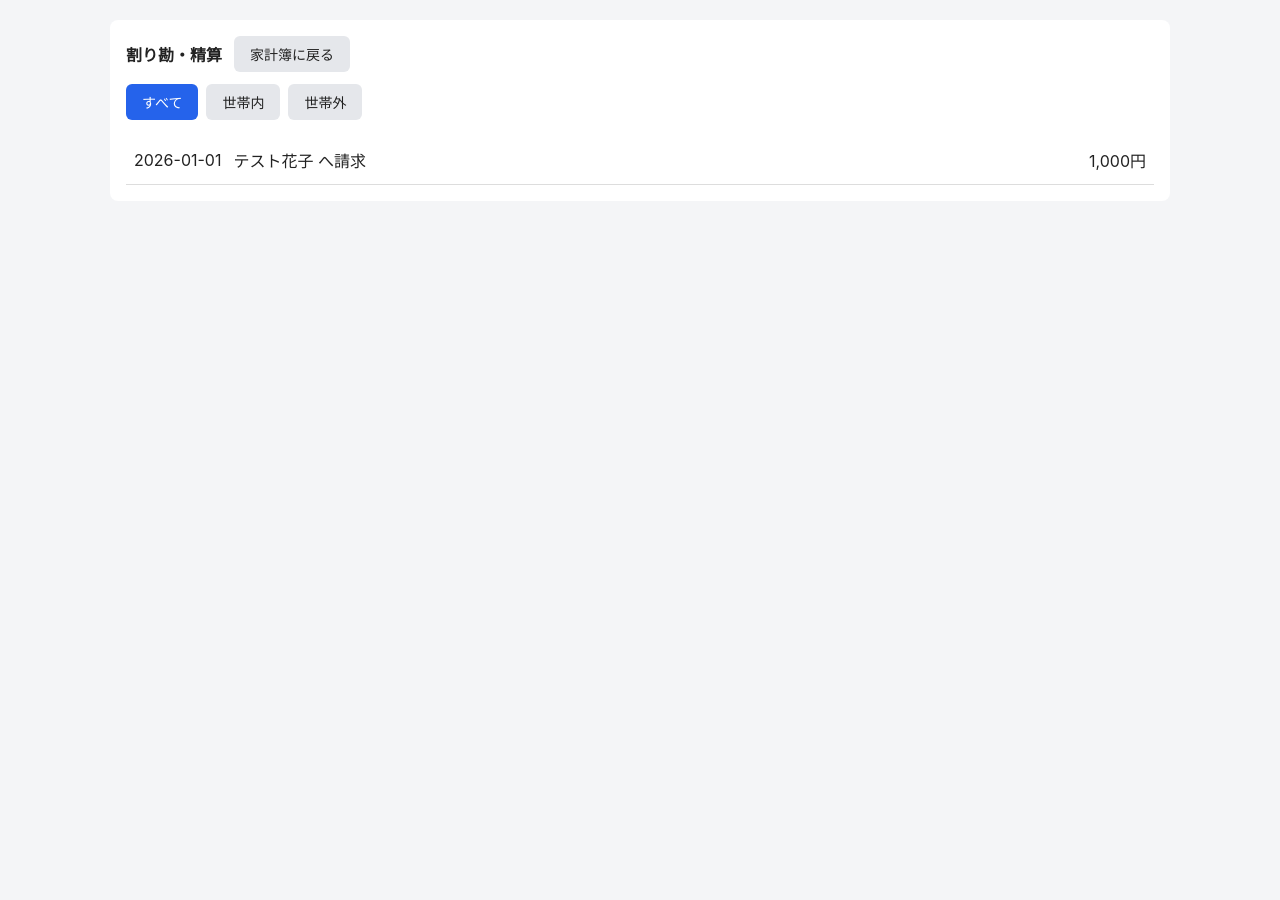
Test: WarikanPage(改訂フロー) › 未精算の行は確認ダイアログを経て削除できる
Click the button with aria-label "共同購入" at point(178, 160), box [126,136,1154,185]
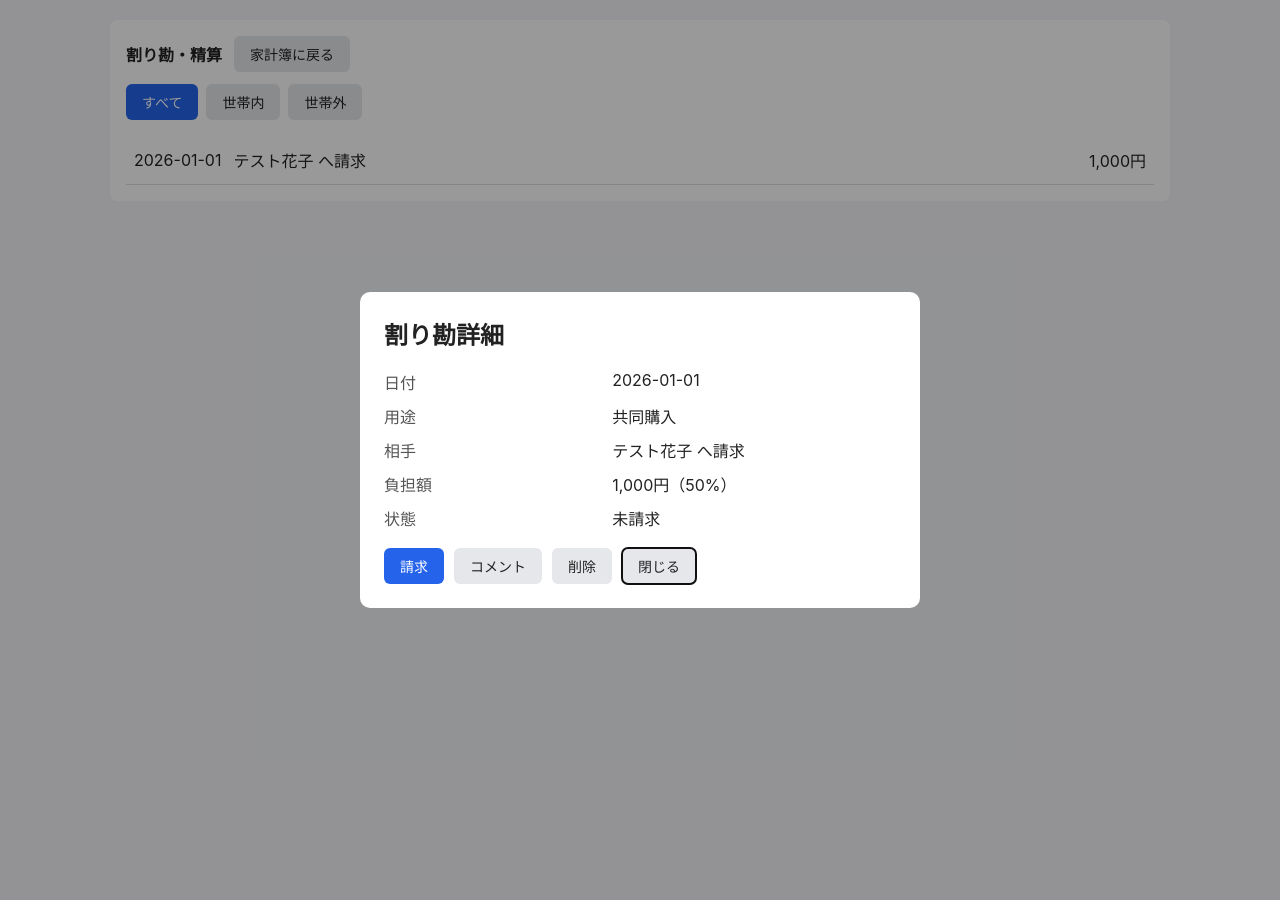
Click the button "削除" at point(582, 566), box [552,548,612,584]
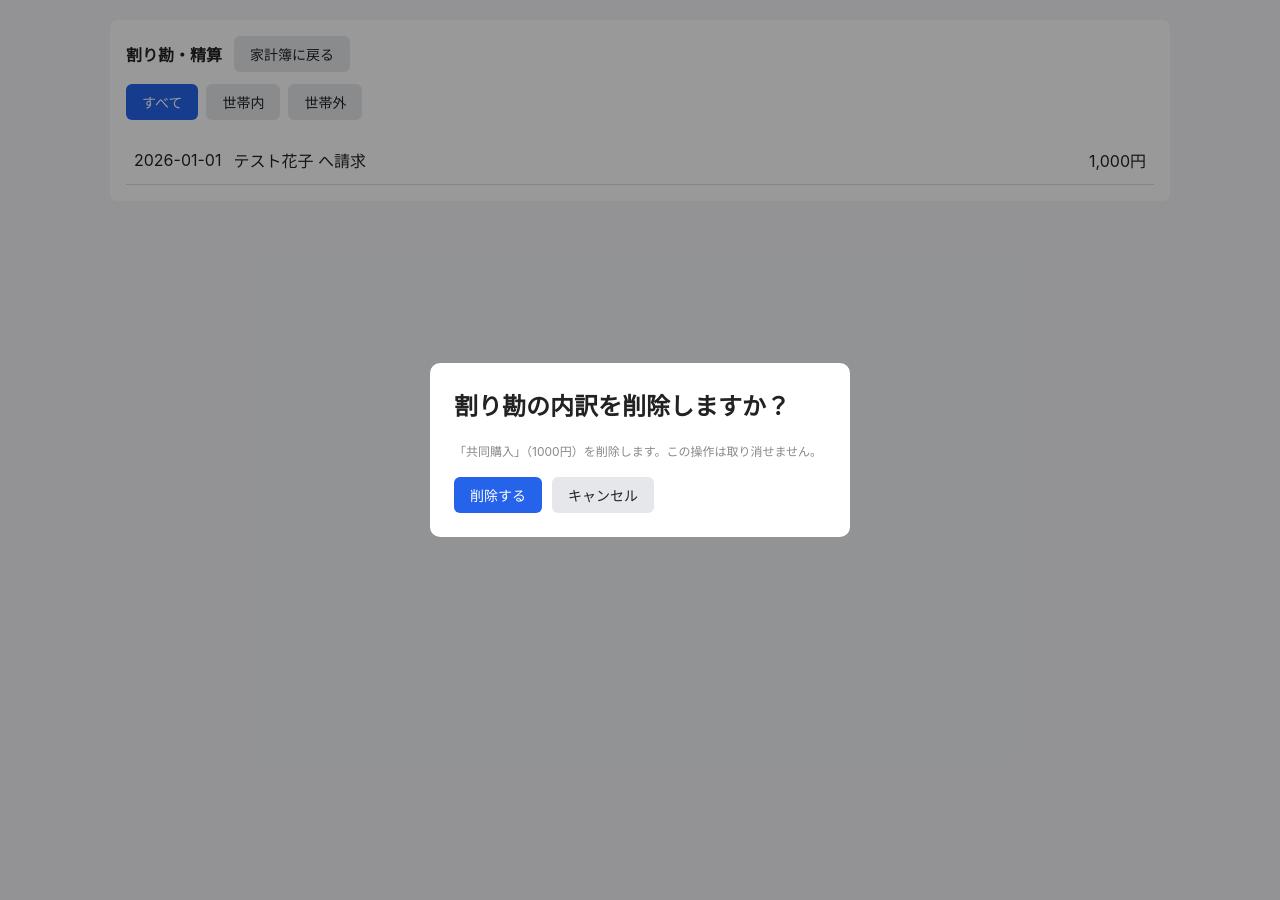
Click the button "削除する" at point(498, 495), box [454,477,542,513]
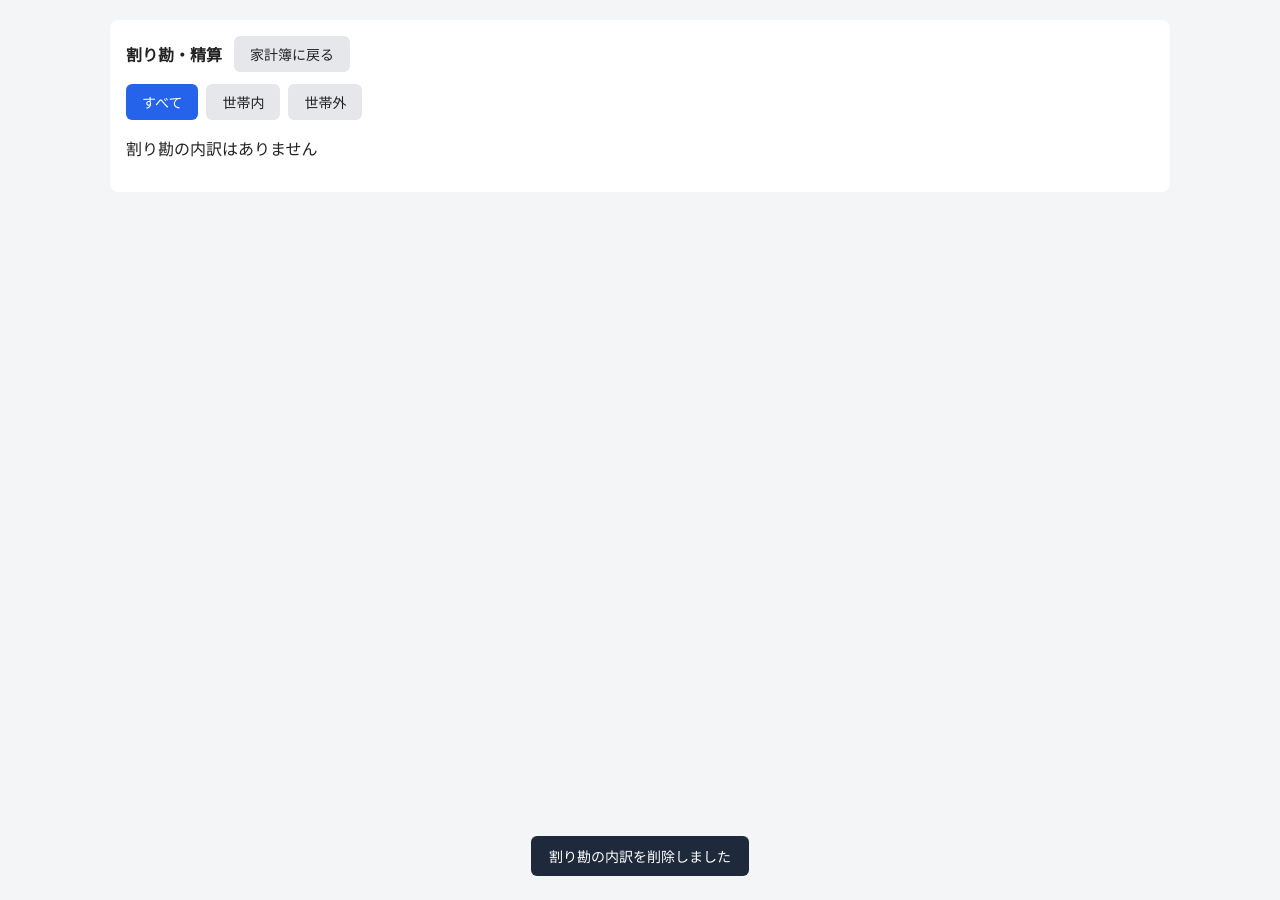
Expected: the text "割り勘の内訳はありません" is shown, [126,139,318,159]
